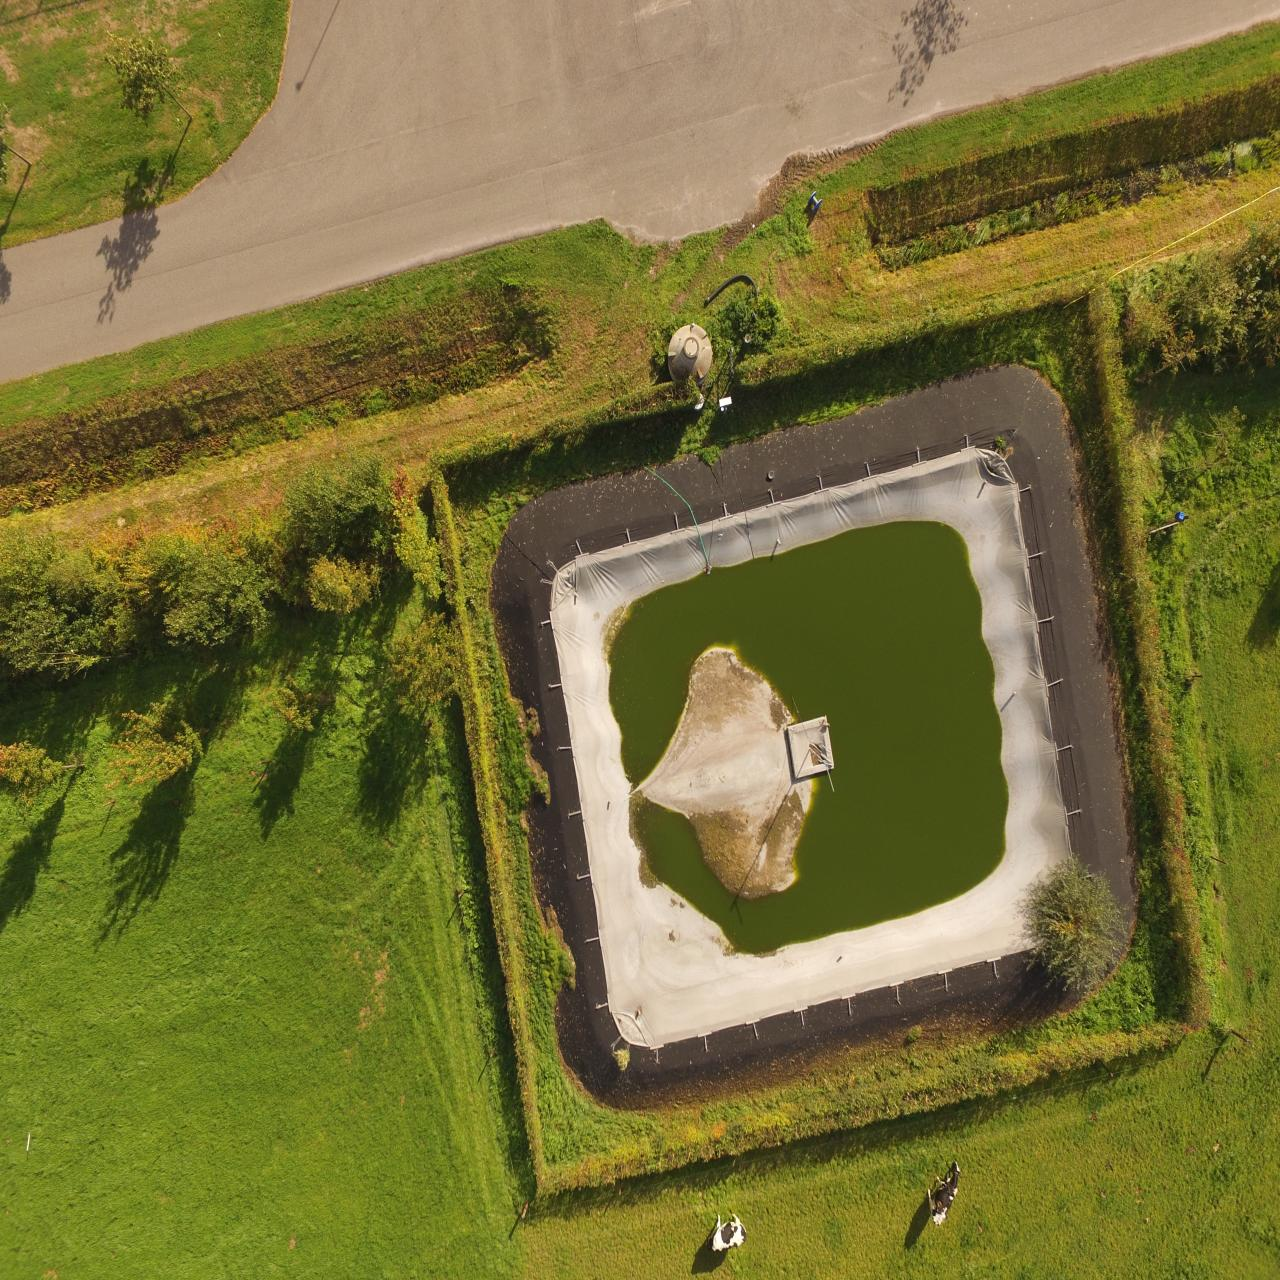cow: (925, 1153, 962, 1232), (703, 1207, 749, 1257)
